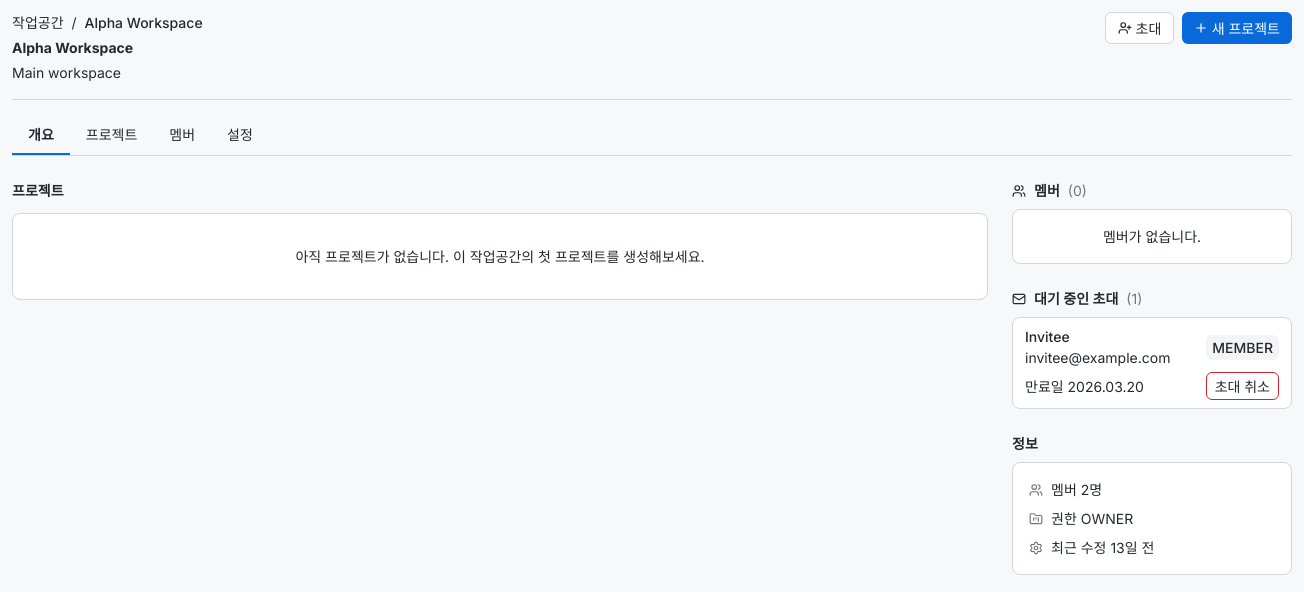
Test: WorkspaceDetailPage › renders sent workspace invites and cancels a pending invite
The width and height of the screenshot is (1304, 592).
Expected: the text "Invitee" is shown, [1025,328,1070,345]
Click the button "초대 취소". click: (1242, 386)
box: [1206,372,1279,400]
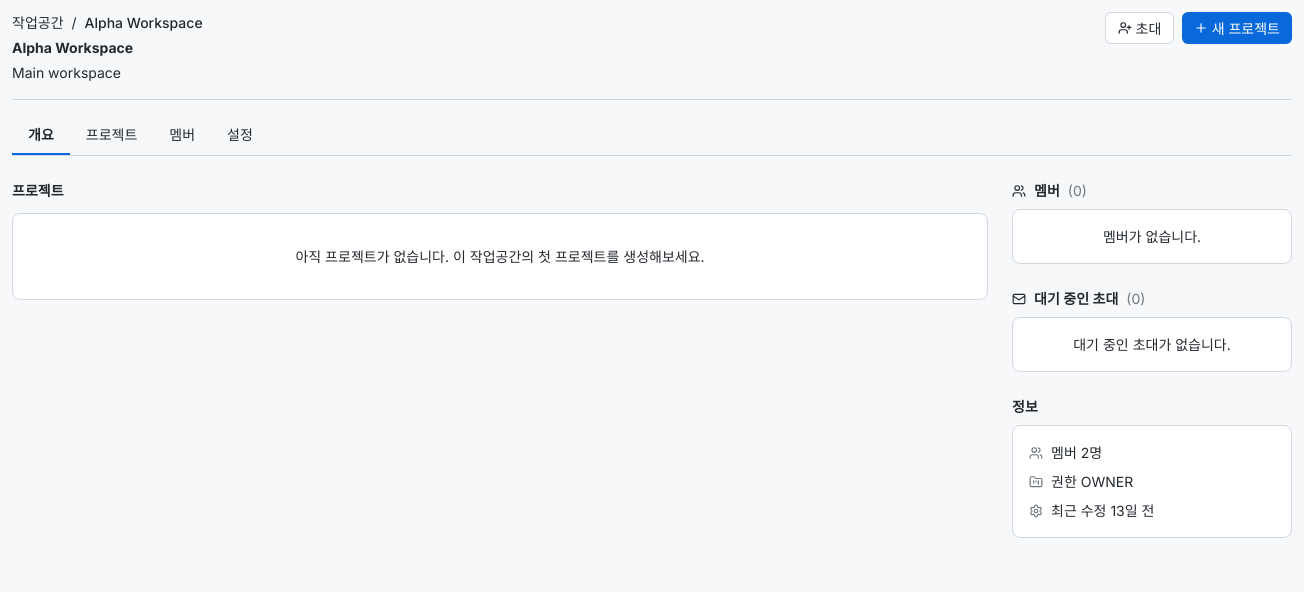
Expected: the text "Invitee" is gone
